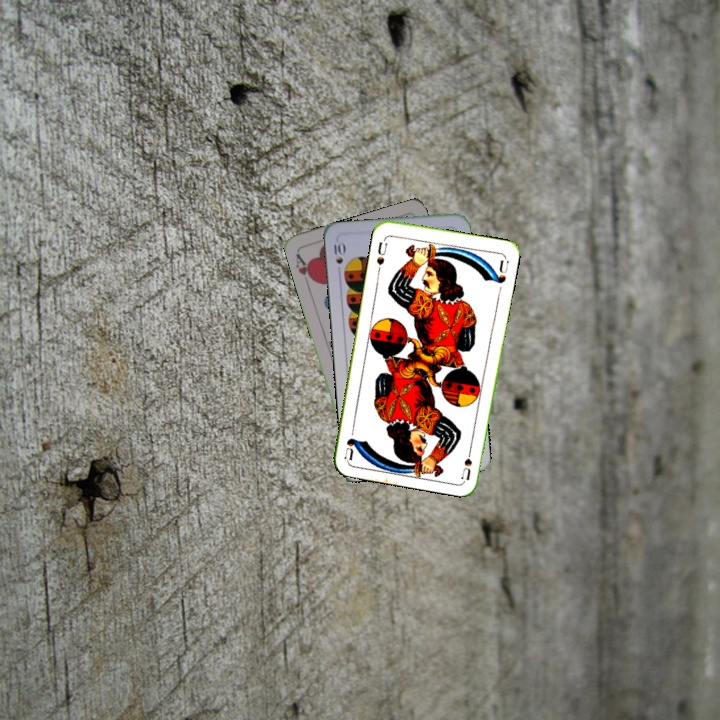HA: (292, 248, 317, 288)
S10: (328, 237, 347, 277)
SU: (457, 440, 475, 481), (372, 234, 390, 274)
